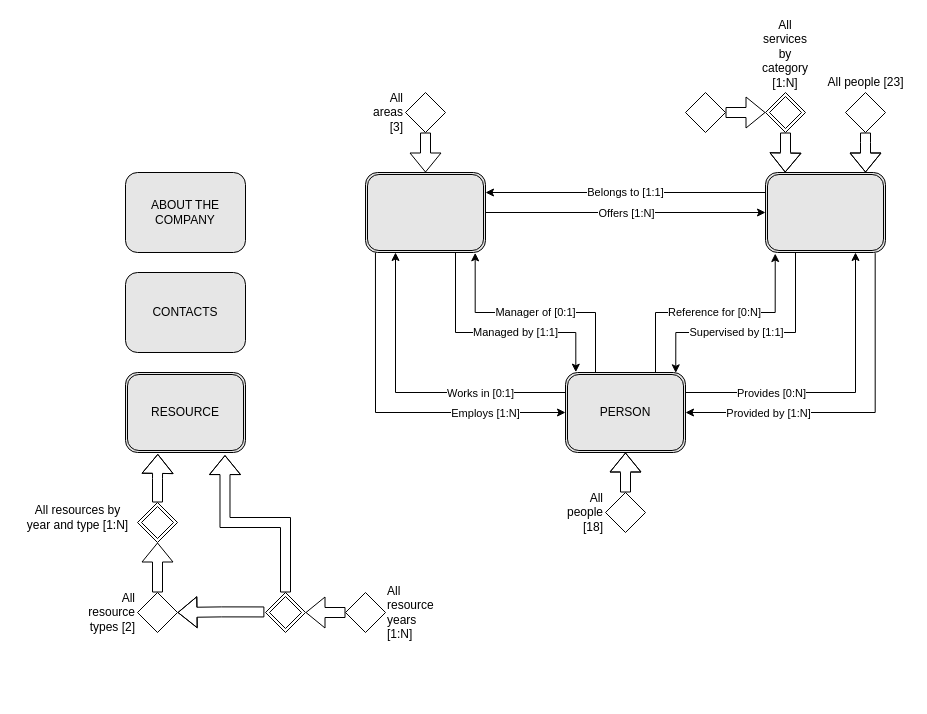
This 927x714 diagram has some shape labels left out. The box of each missing label's shape, as (x1, y1, x2, y2) in pixels:
All resources by year [1:N]: (264, 592, 306, 632)
All service categories [1:10]: (684, 92, 726, 132)
AREA: (364, 172, 486, 252)
SERVICE: (764, 172, 886, 252)
